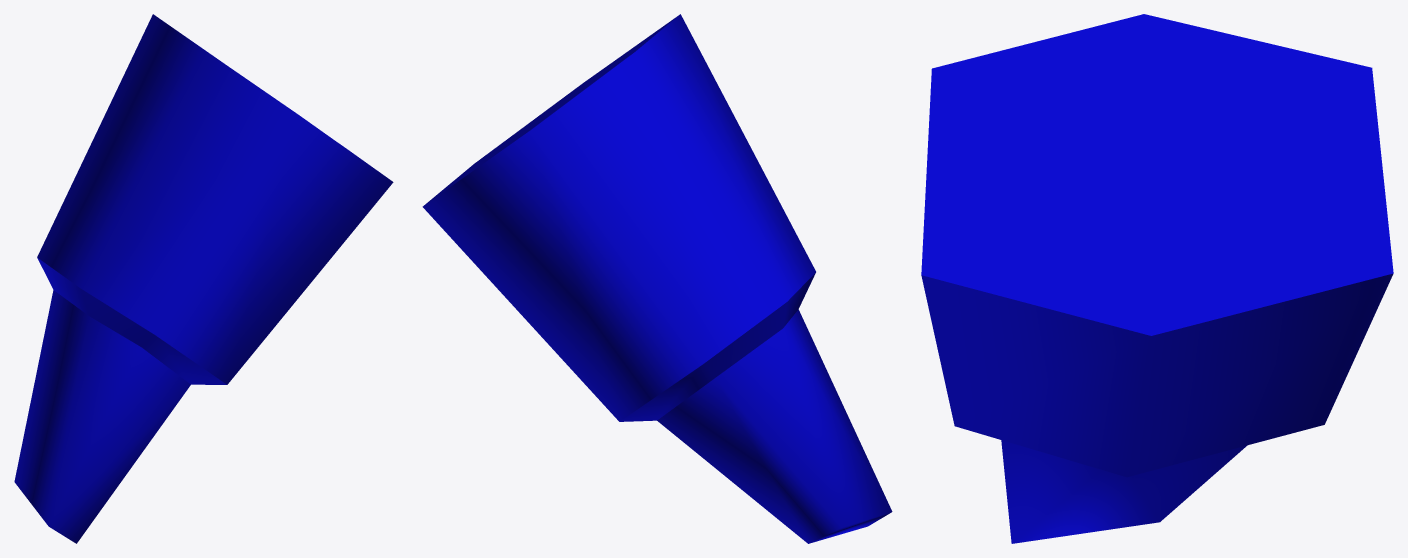
The model's file is rightHand_31.glb.
3 views of the same model, side by side, from view 1: azimuth 30°, elevation 25°; view 2: azimuth 150°, elevation 25°; view 3: azimuth 270°, elevation 25° (orthographic). The views are drawn at different scales.
Parts seen in each view (by area): view 1: rightHand; view 2: rightHand; view 3: rightHand.
Boxes of the visible parts, bbox=[...] form: rightHand: bbox=[14, 14, 393, 543]; rightHand: bbox=[422, 14, 892, 543]; rightHand: bbox=[921, 14, 1393, 543].
Size of the model in its own units: 0.1432 by 0.1703 by 0.1106.
